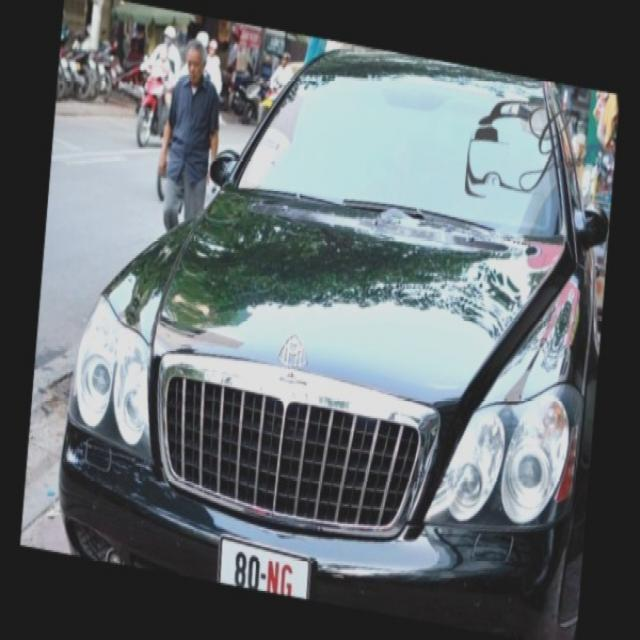bien_ngoai_giao: (218, 536, 312, 614)
